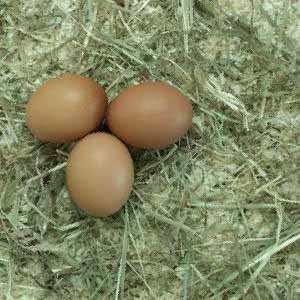egg: (65, 131, 134, 218), (25, 73, 108, 145), (108, 82, 193, 150)
